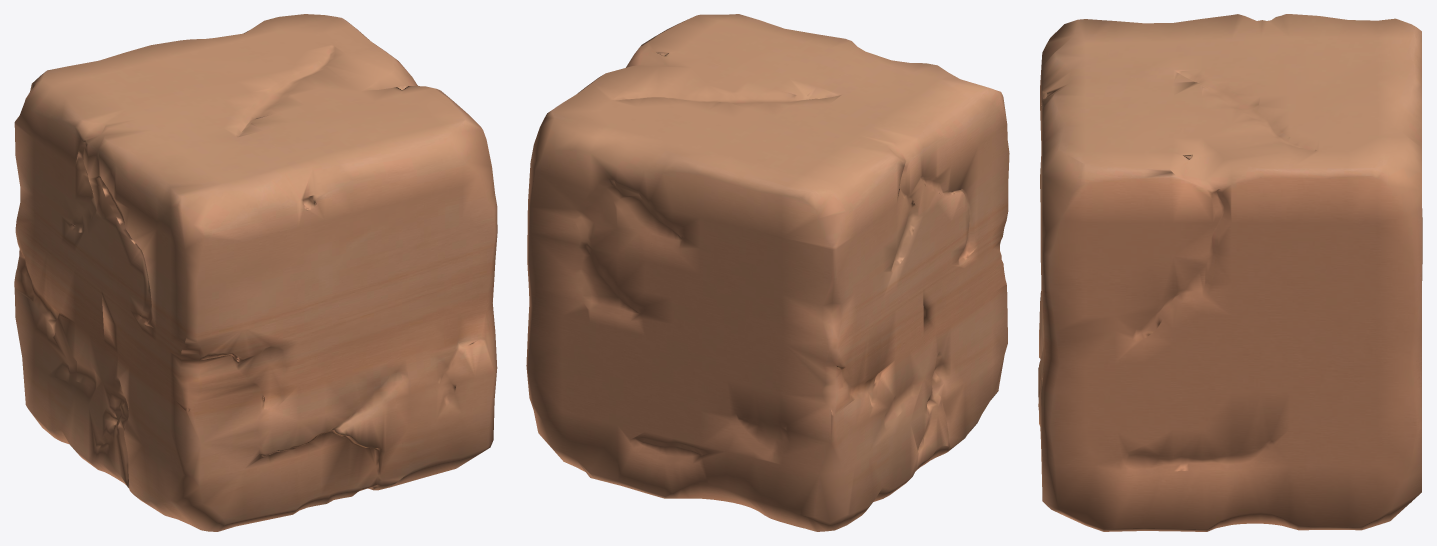
File: original_glb.glb
3 renders of one model, left to right at view 1: azimuth 30°, elevation 25°; view 2: azimuth 150°, elevation 25°; view 3: azimuth 270°, elevation 25°, orthographic. The views are drawn at different scales.
Visible parts, largest first — view 1: tile-8-terracotta; view 2: tile-8-terracotta; view 3: tile-8-terracotta.
Part boxes in pixels (x1,y1,x2,y2): tile-8-terracotta: (14, 14, 497, 531); tile-8-terracotta: (526, 14, 1009, 531); tile-8-terracotta: (1038, 14, 1422, 531).
Bounding box in the file's own units: 0.9473 × 0.9902 × 0.9512.
1 material, 1 textured.
